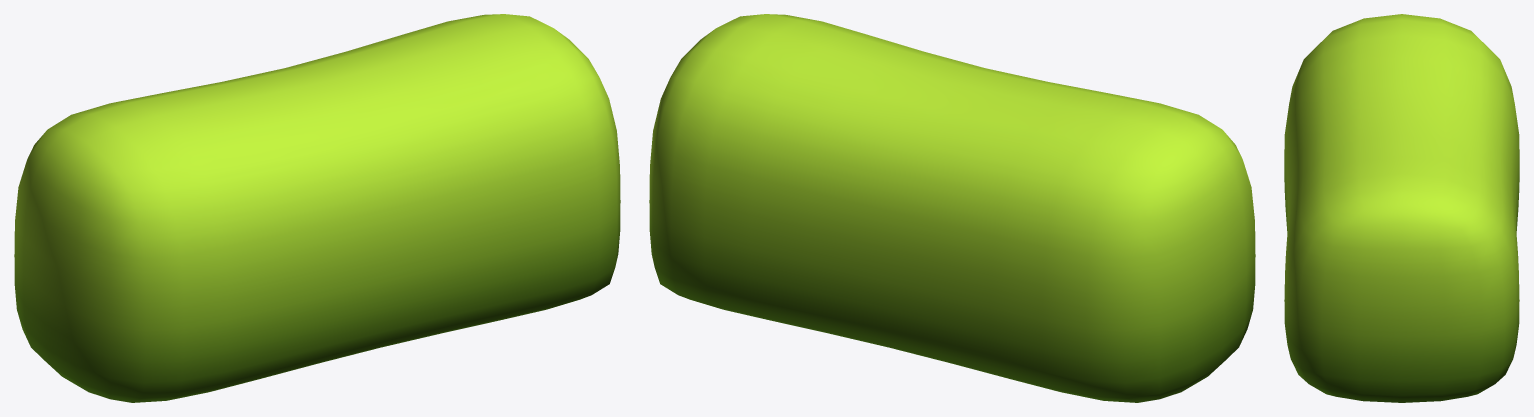
File: Long_Bush.glb
The picture shows the model from 3 angles, left to right: view 1: azimuth 30°, elevation 25°; view 2: azimuth 150°, elevation 25°; view 3: azimuth 270°, elevation 25°; orthographic projection. The views are drawn at different scales.
Visible parts, largest first — view 1: long_bush; view 2: long_bush; view 3: long_bush.
Boxes of the visible parts, bbox=[...] form: long_bush: bbox=[14, 14, 620, 402]; long_bush: bbox=[649, 14, 1255, 402]; long_bush: bbox=[1284, 14, 1519, 402].
Bounding box in the file's own units: 2.74 × 1.2 × 1.24.
Materials: 1 (1 with a texture image).
